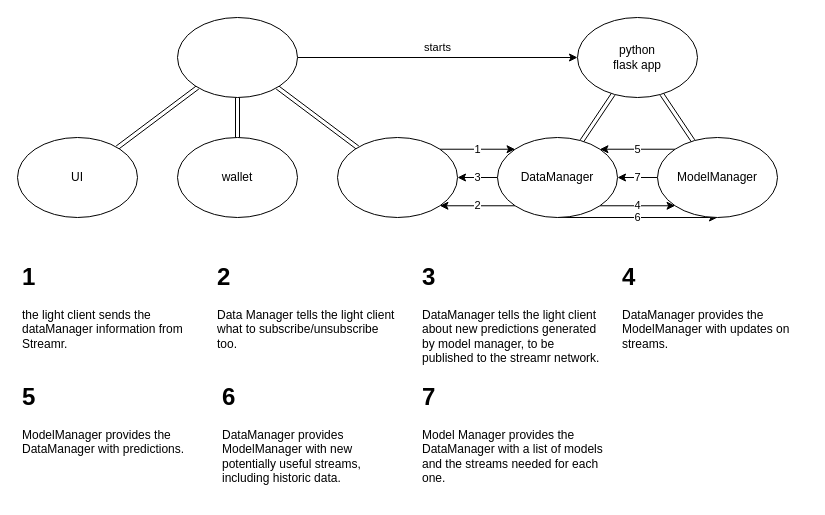
Some shapes in this 825 by 515 pixel diagram are drawn without their labels. The centre of each missing label's shape, as x and y in pixels:
"NodeJS app" belongs at (x=237, y=57).
"Streamr light client" belongs at (x=397, y=177).
